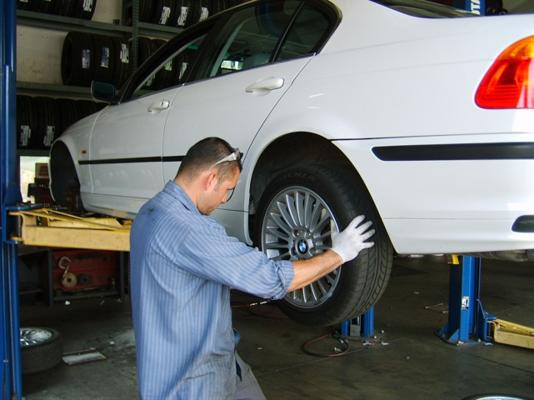person: (130, 137, 377, 400)
